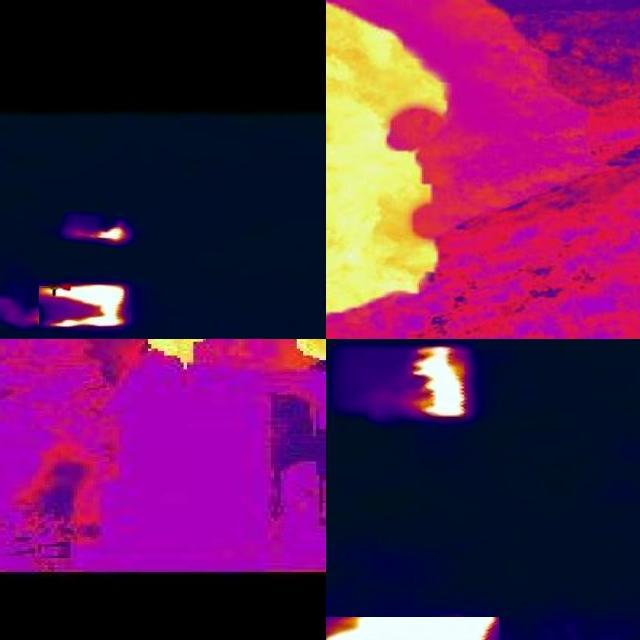fire: (327, 1, 451, 319), (407, 345, 469, 419), (39, 284, 129, 329), (327, 618, 499, 640), (145, 340, 202, 371), (298, 341, 327, 367), (92, 225, 126, 243)
